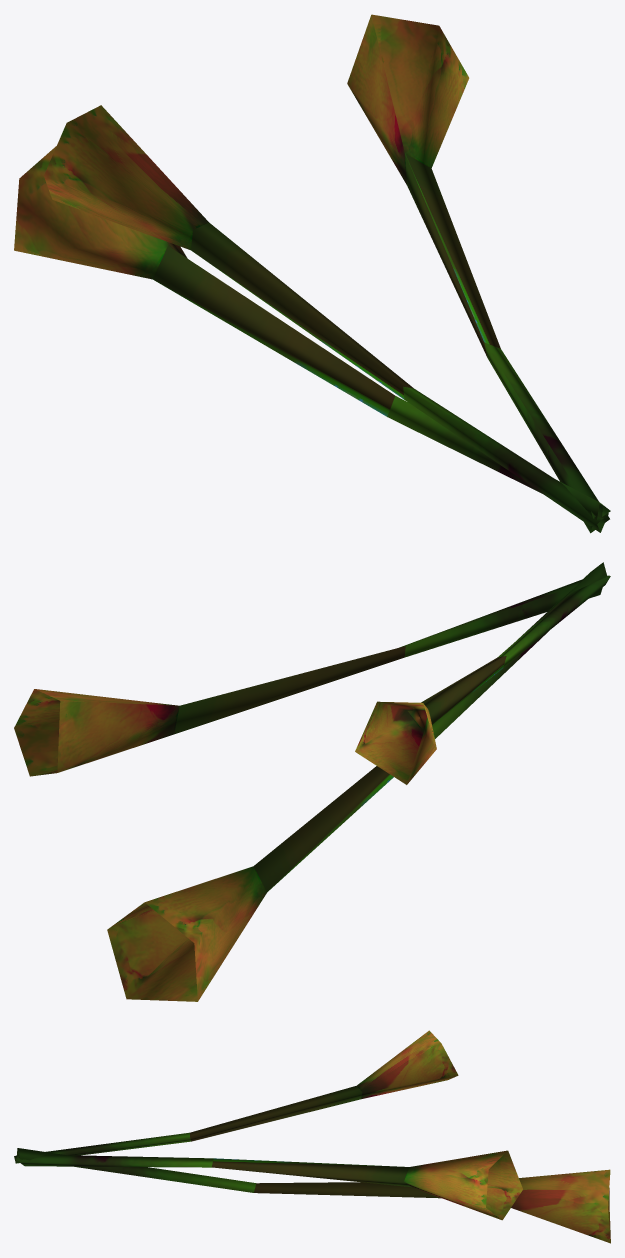
File: Flowers_01_vcta.fbx
3 renders of one model, top to bottom at view 1: azimuth 30°, elevation 25°; view 2: azimuth 150°, elevation 25°; view 3: azimuth 270°, elevation 25°, orthographic. The views are drawn at different scales.
Parts seen in each view (by area): view 1: Flowers_01; view 2: Flowers_01; view 3: Flowers_01.
Part boxes in pixels (x1,y1,x2,y2): Flowers_01: [14, 14, 610, 533]; Flowers_01: [14, 562, 610, 1001]; Flowers_01: [14, 1030, 610, 1243].
Bounding box in the file's own units: 0.67 × 0.3964 × 1.34.
